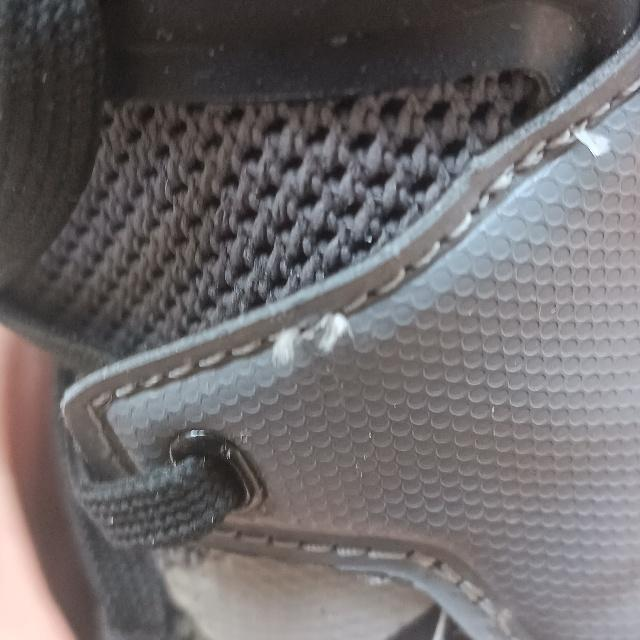broken-error: (272, 300, 358, 373)
